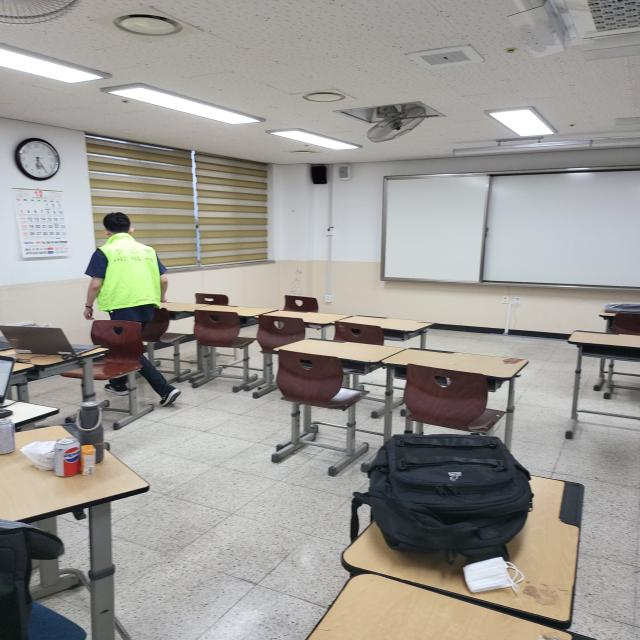weston_spy: (90, 228, 171, 318)
